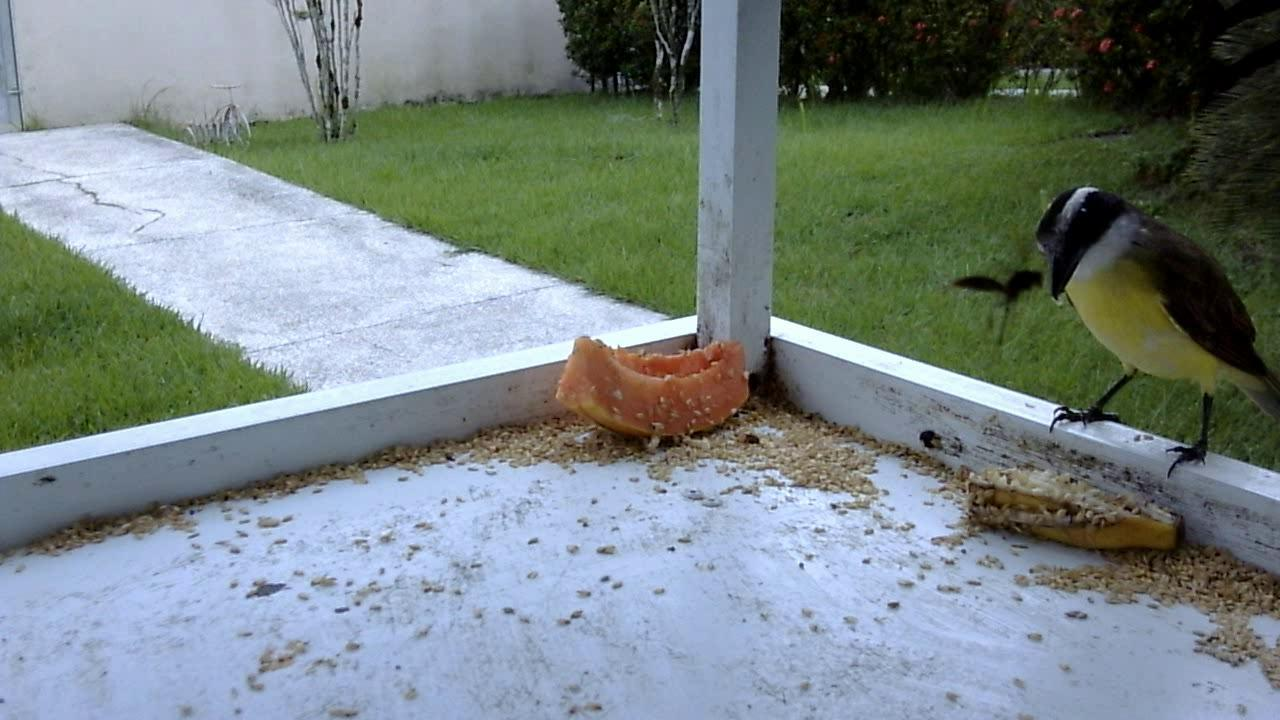bem_te_vi: (1027, 179, 1278, 499)
